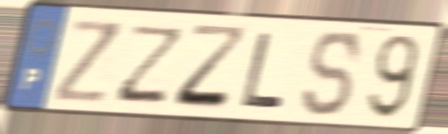9: (363, 32, 423, 122)
L: (238, 29, 288, 110)
S: (299, 27, 365, 119)
Z: (170, 22, 253, 114), (111, 22, 190, 106), (52, 17, 125, 107)
